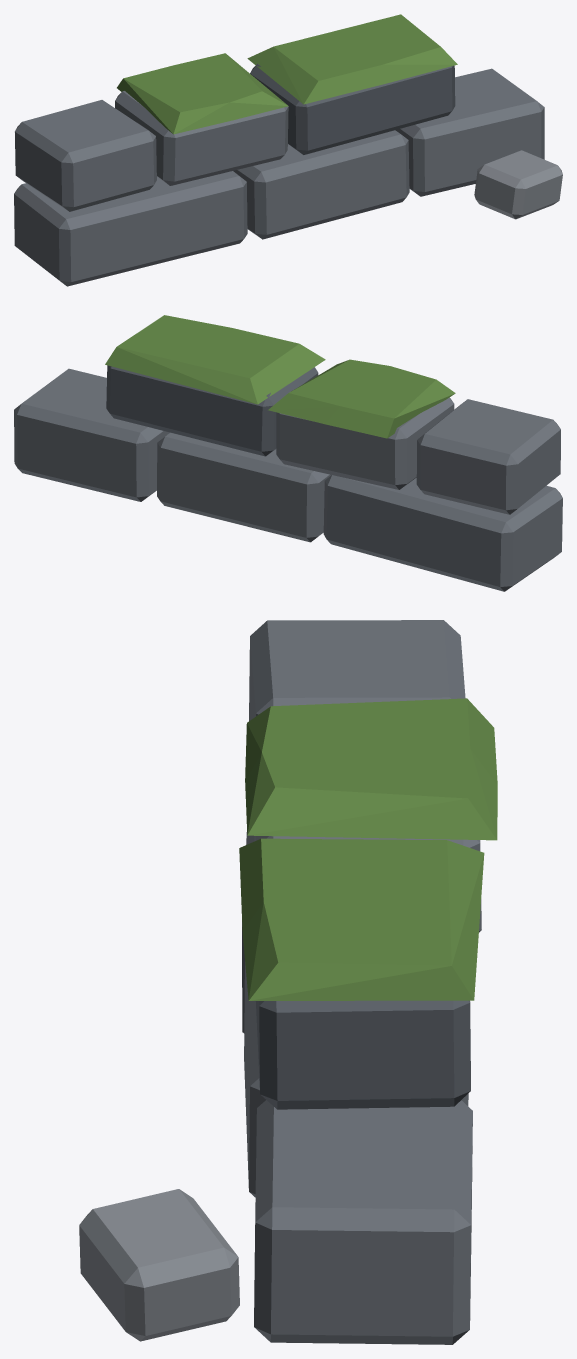
File: Ruin_WallLow.fbx
3 views of the same model, one above another, from view 1: azimuth 30°, elevation 25°; view 2: azimuth 150°, elevation 25°; view 3: azimuth 270°, elevation 25° (orthographic). The views are drawn at different scales.
Visible parts, largest first — view 1: Stone, Moss, Stone3, Stone2; view 2: Stone, Moss, Stone3; view 3: Stone, Moss, Stone3, Stone2.
Boxes of the visible parts, box(x1,y1,x2,y2) form: Stone: box(14, 68, 544, 286); Moss: box(117, 14, 457, 134); Stone3: box(250, 63, 455, 154); Stone2: box(474, 150, 562, 219); Stone: box(14, 368, 562, 591); Moss: box(105, 315, 455, 438); Stone3: box(106, 365, 318, 456); Stone: box(242, 620, 481, 1344); Moss: box(239, 698, 497, 1000); Stone3: box(255, 1000, 470, 1109); Stone2: box(79, 1189, 239, 1341).
Bounding box in the file's own units: 5.94 × 1.77 × 2.21.
